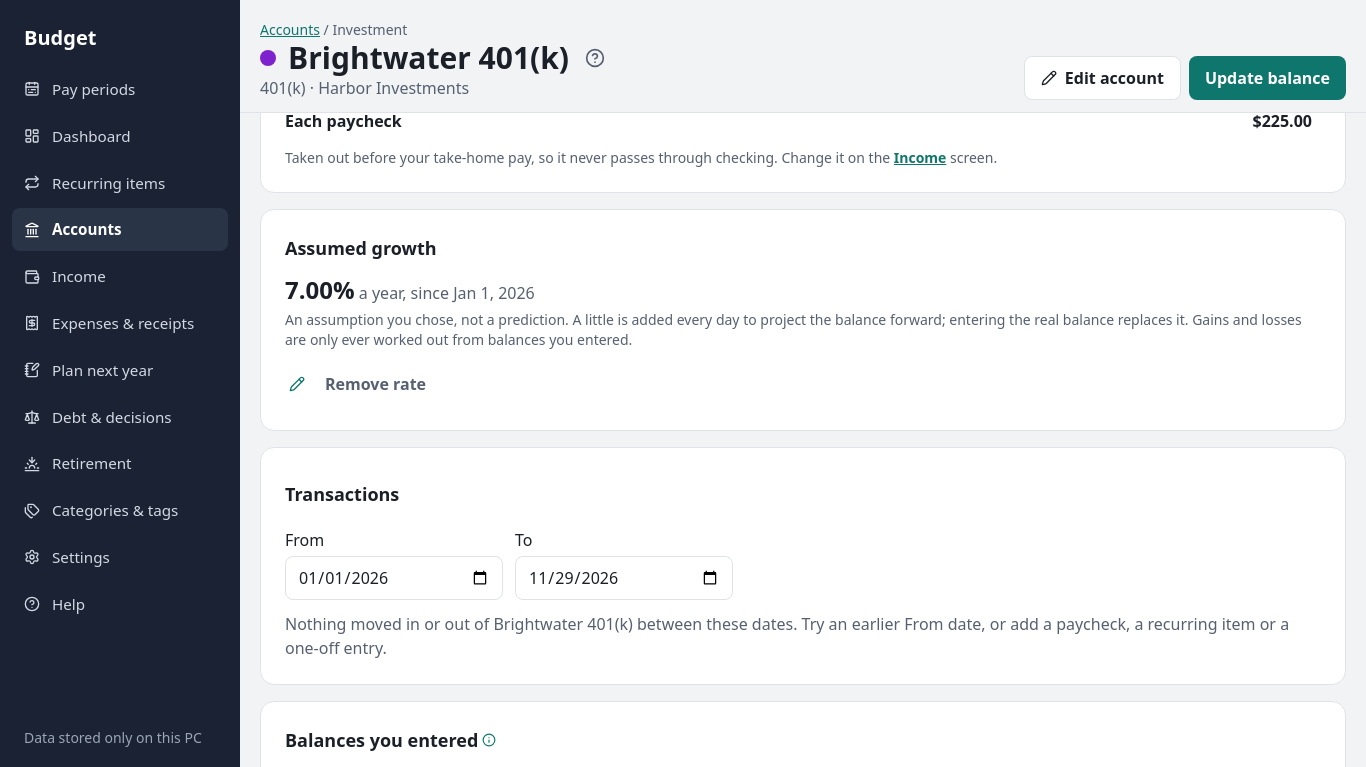
Test: investment account screen › asks again kindly for a rate that is not a rate
This screenshot has width=1366, height=767.
(page scrolled)
Click the button named "Edit assumed growth". click: [297, 384]
box: [285,372,309,396]
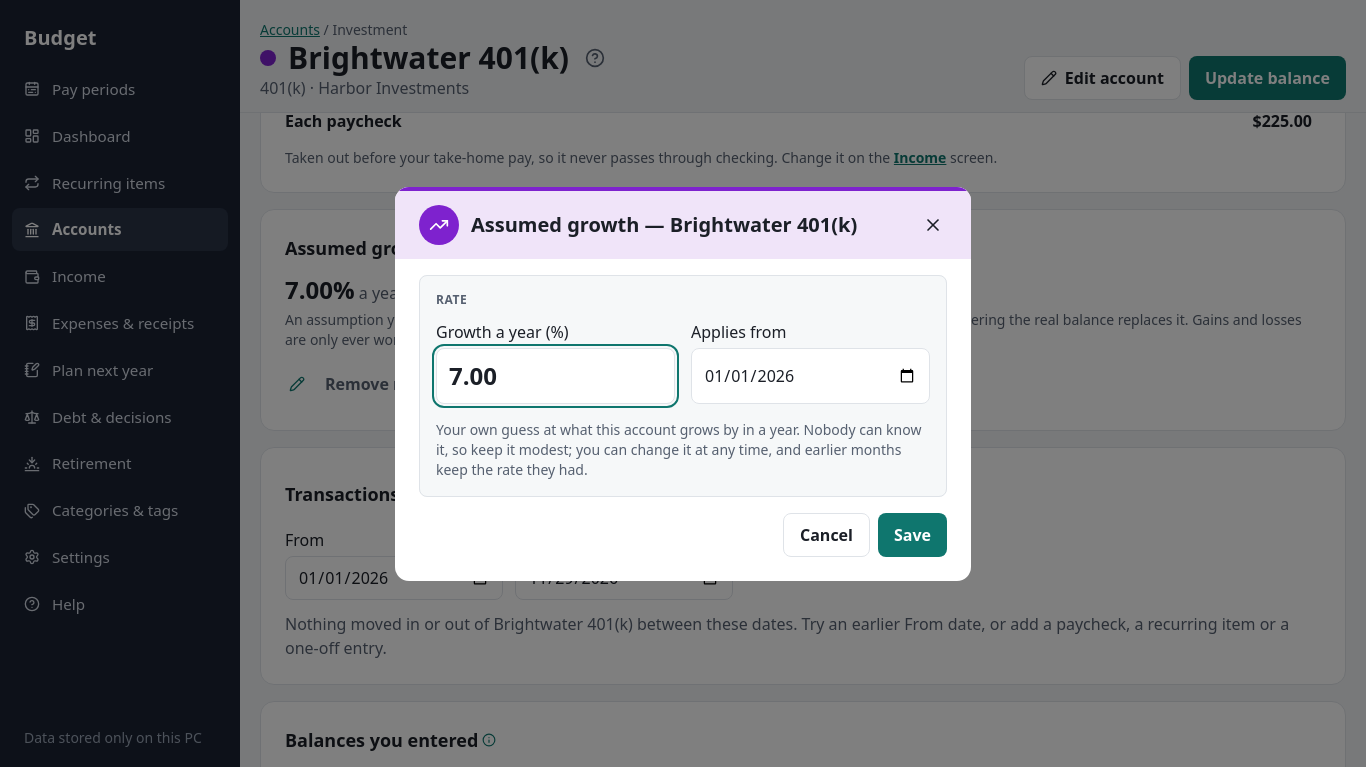
Replace the text in the field labelled "Growth a year (%)" with "seven". click: [556, 376]
box: [436,348,675,404]
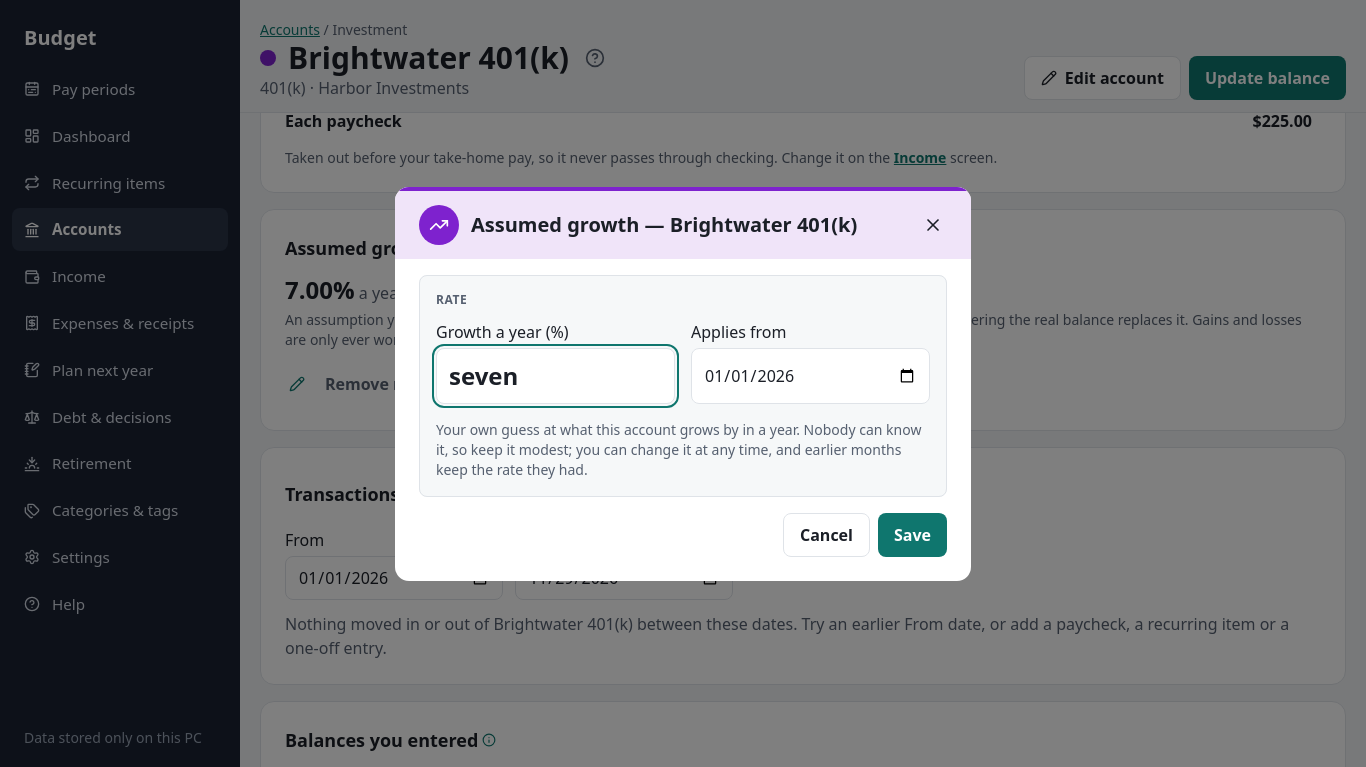
Click the button "Save". click: [912, 535]
box: [878,513,947,557]
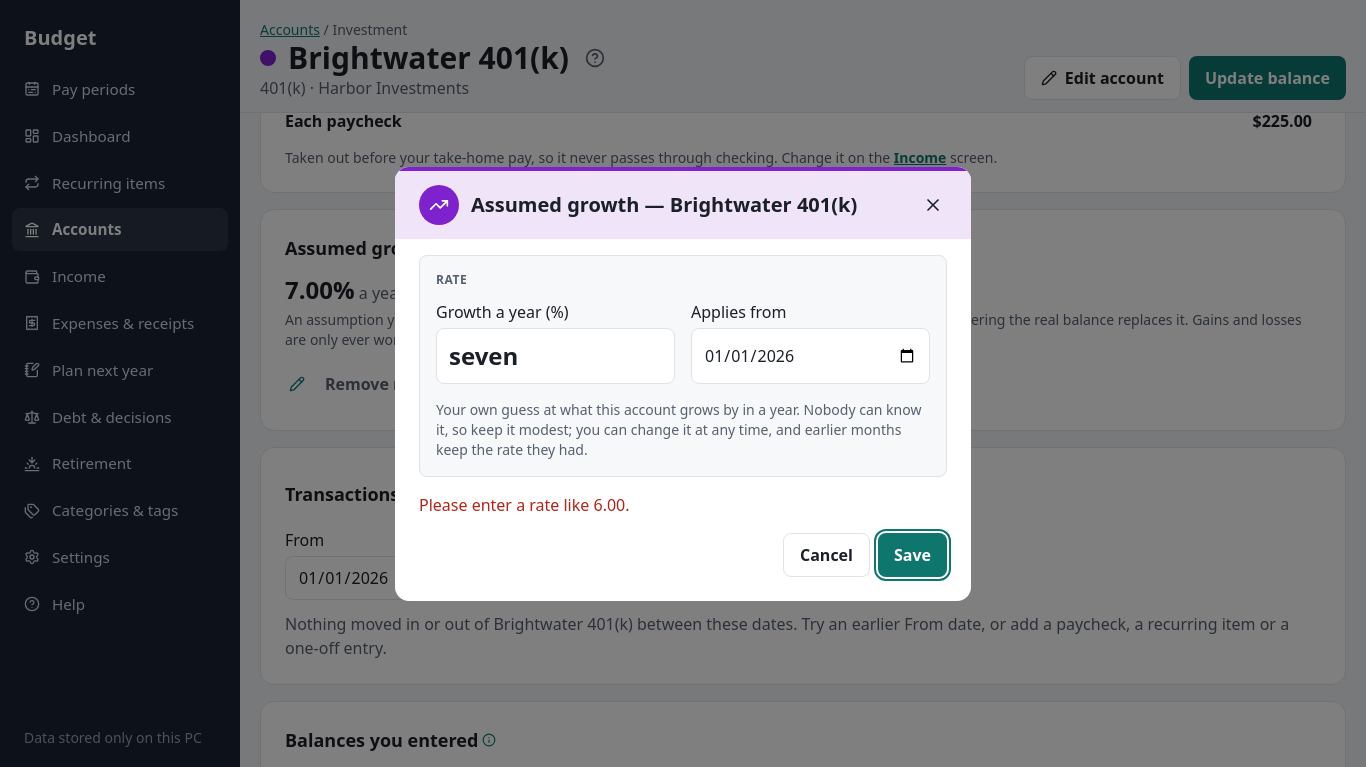
Check: the message reads "Please enter a rate like 6.00.", box [419,494,630,516]
